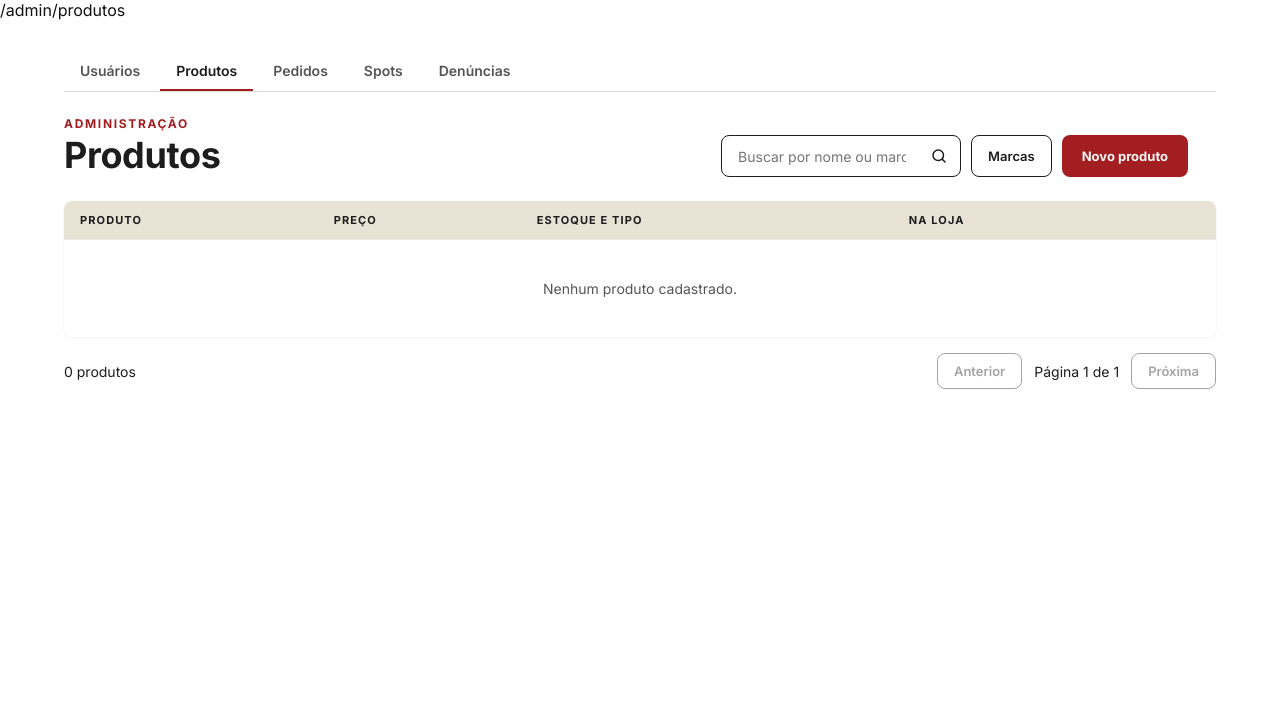
Test: Painel: marcas › mostra o erro de marca com produtos
The width and height of the screenshot is (1280, 720).
Click the button "Marcas" at (1011, 156), box x1=971 y1=135 x2=1052 y2=177
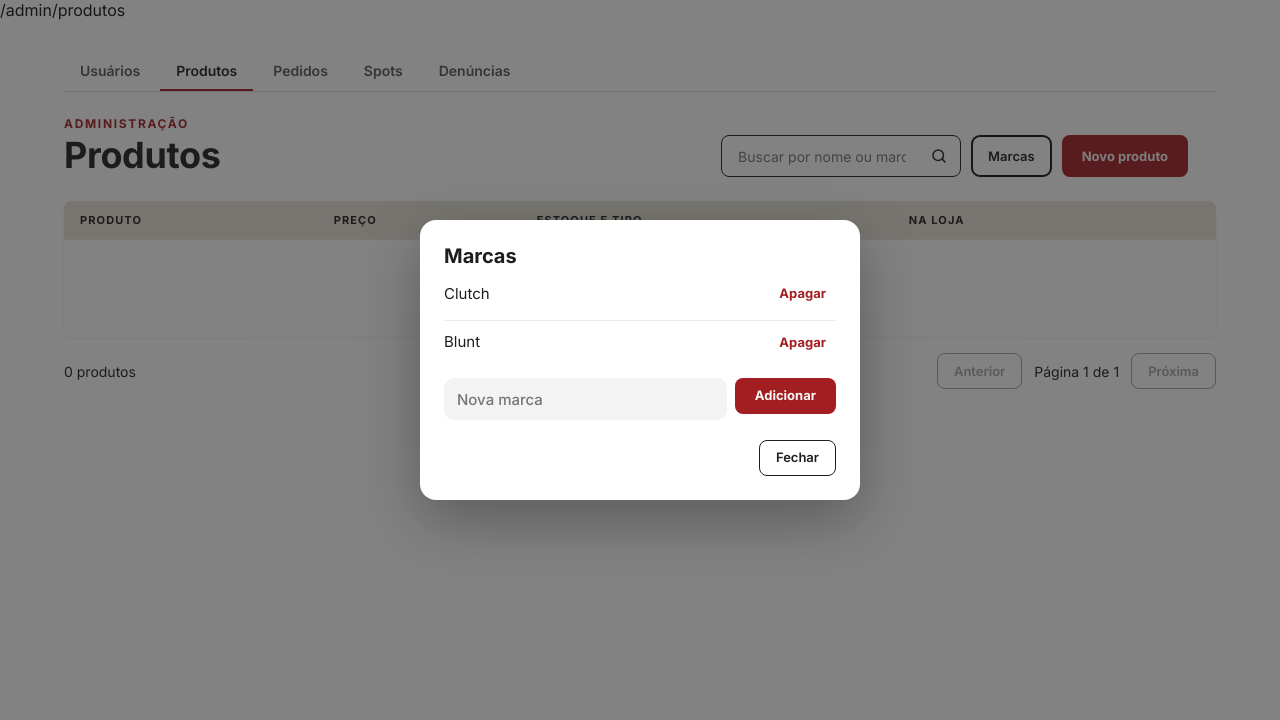
Click the button with aria-label "Apagar a marca Clutch" at (803, 294), box x1=769 y1=278 x2=836 y2=310
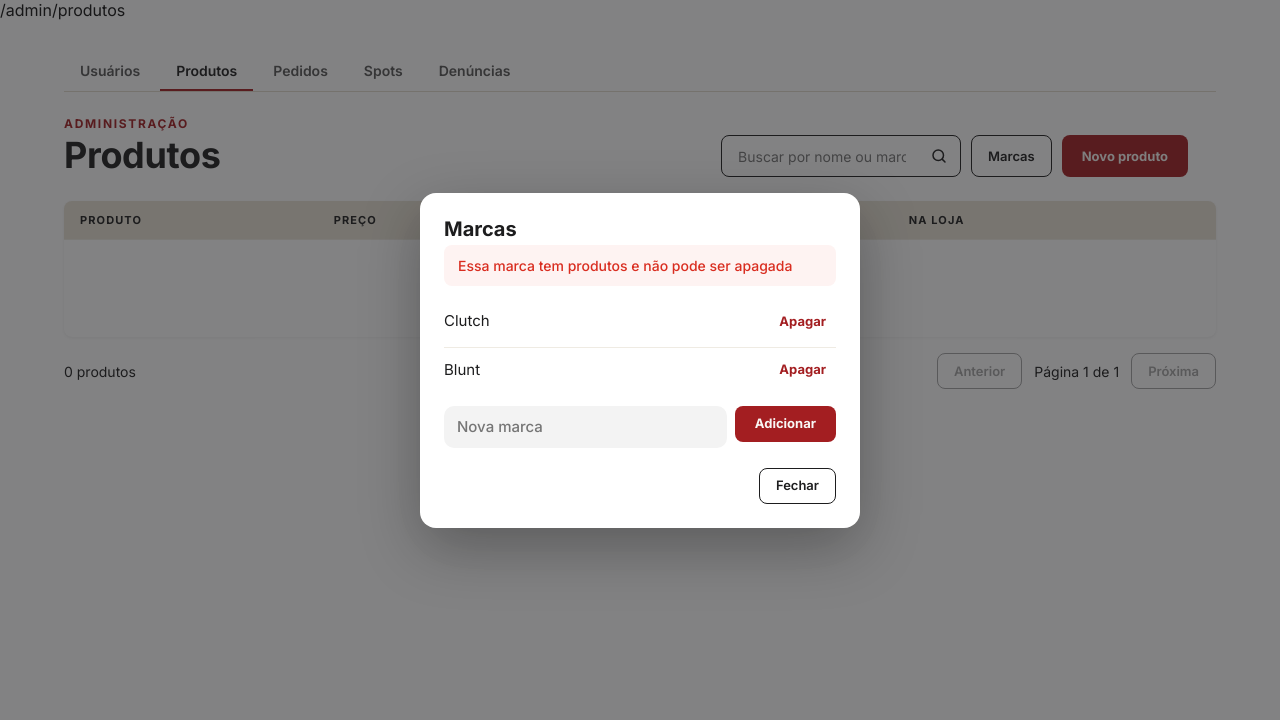
Now the message reads "Essa marca tem produtos e não pode ser apagada", box x1=458 y1=256 x2=792 y2=274
